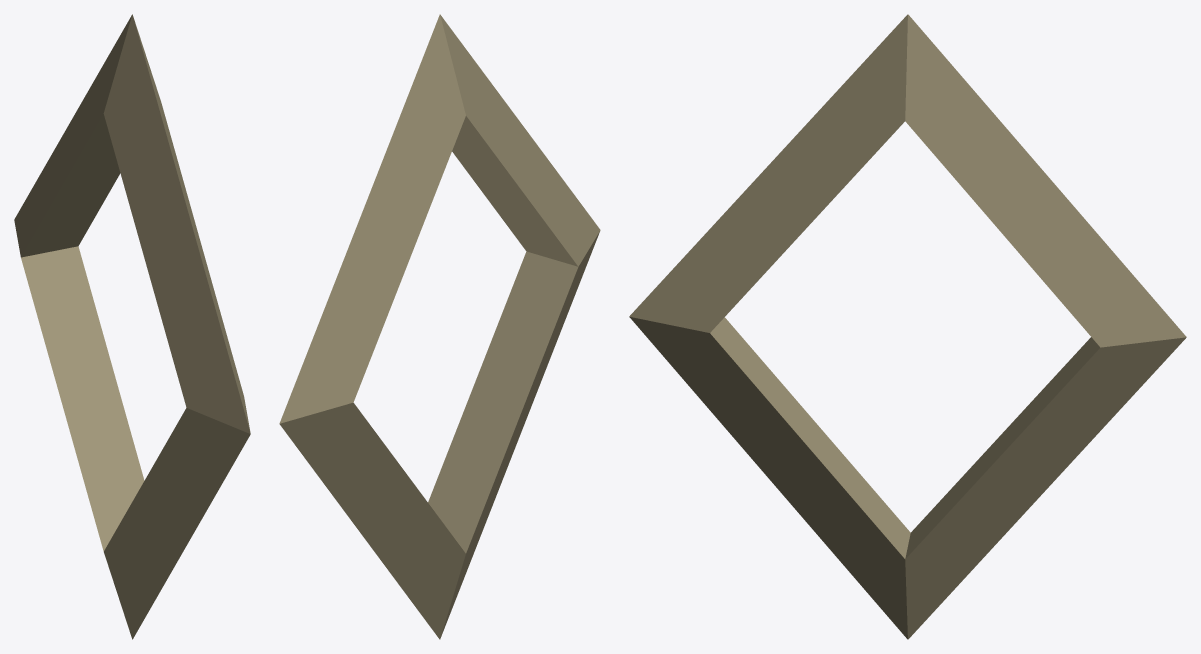
The model's file is SM_ChainLink.fbx.
3 views of the same model, side by side, from view 1: azimuth 30°, elevation 25°; view 2: azimuth 150°, elevation 25°; view 3: azimuth 270°, elevation 25° (orthographic).
Parts seen in each view (by area): view 1: SM_ChainLink; view 2: SM_ChainLink; view 3: SM_ChainLink.
Part boxes in pixels (x1,y1,x2,y2): SM_ChainLink: (14,14,250,639); SM_ChainLink: (279,14,600,639); SM_ChainLink: (629,14,1186,639).
Size of the model in its own units: 1.14 by 8.1 by 6.54.
